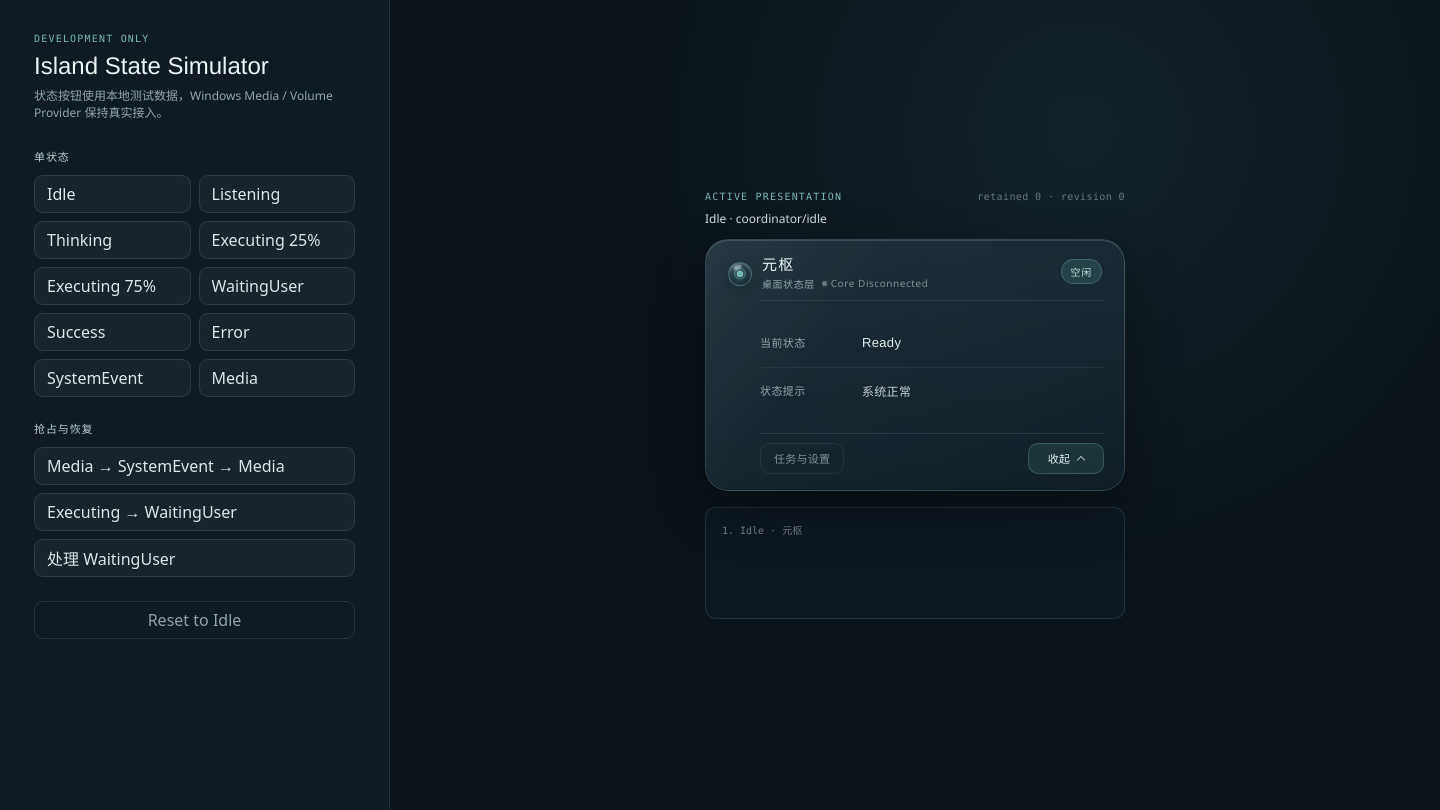
Test: Island State Simulator › Thinking 控件触发 Thinking 展示
What coordinates should you click on to do the following:
click the button "Thinking"
I would click on:
 (112, 240)
Its box is [34,221,190,259].
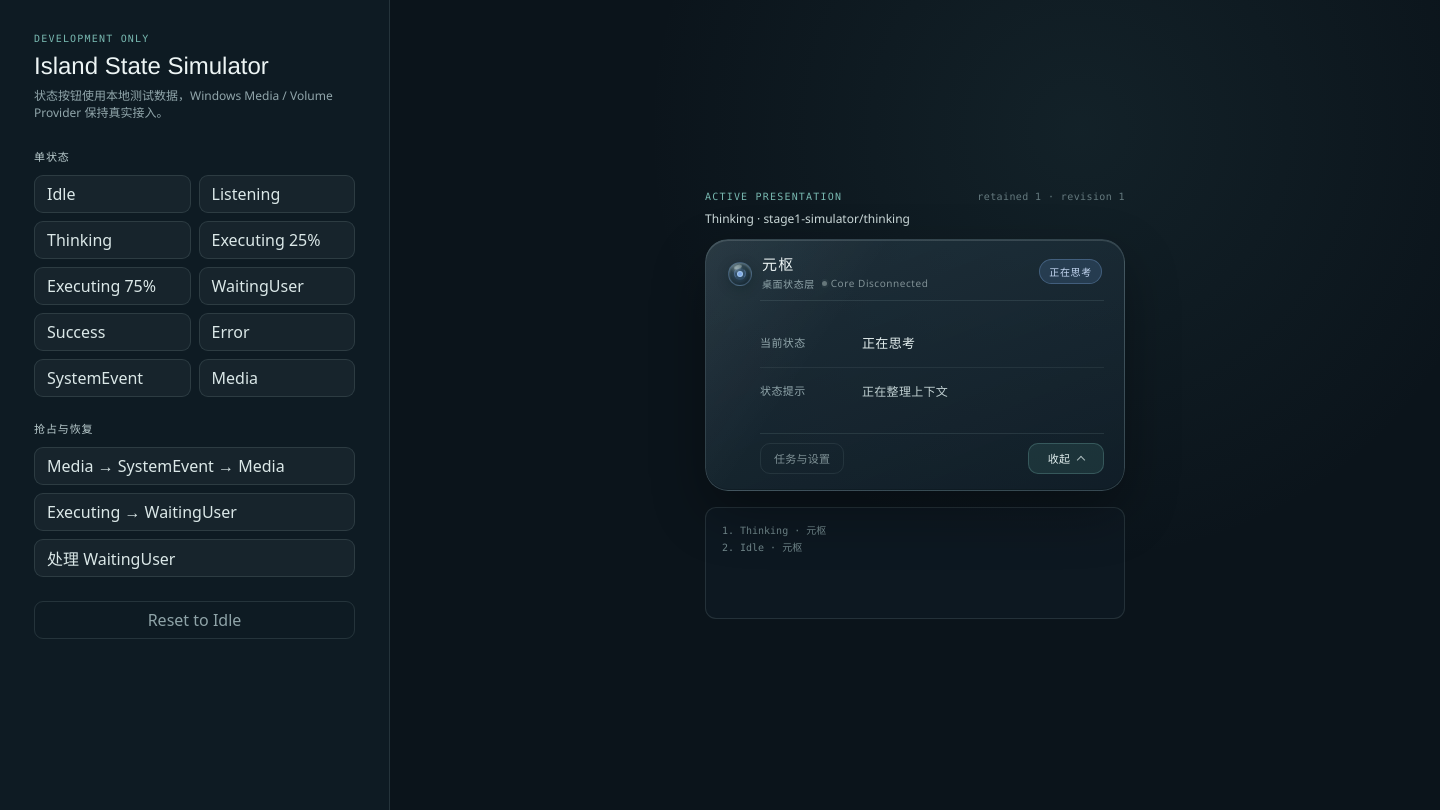
Expected: the text with test id "simulator-active" shows "Thinking", [705,210,754,226]
